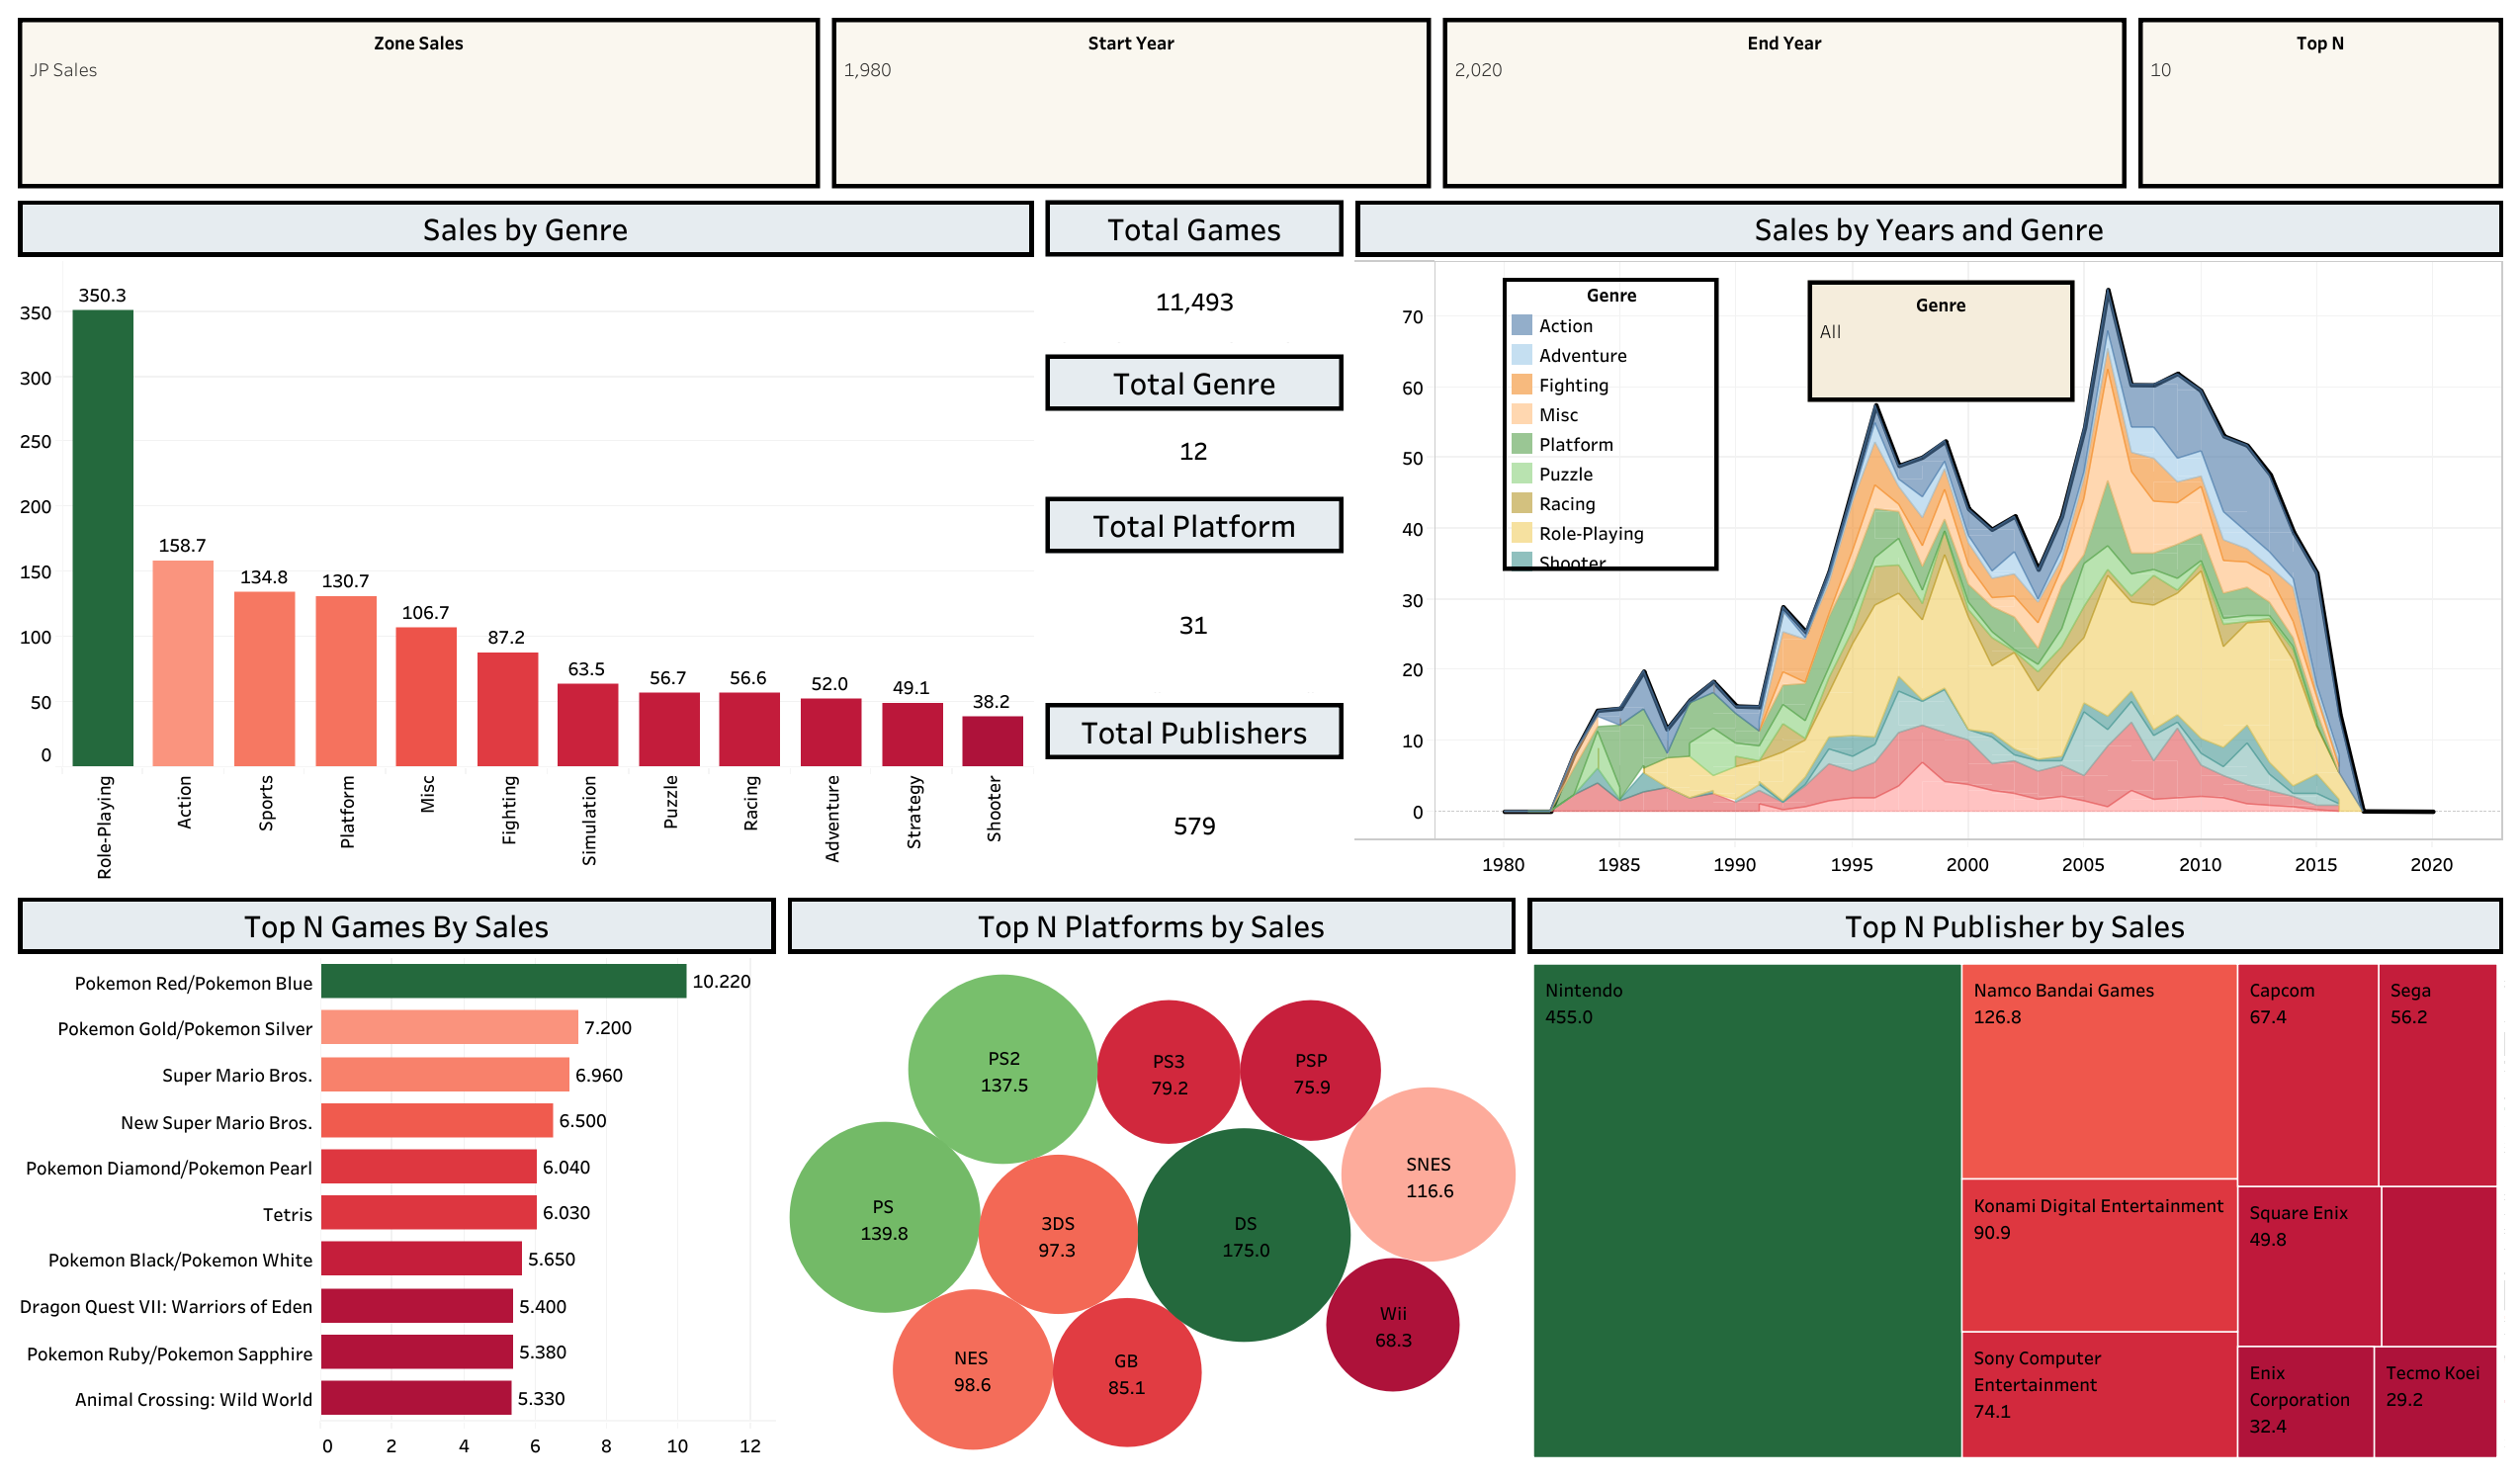

The page's visual inventory and layout, read from the dashboard file:
{"tool":"tableau","page":{"name":"Dashboard 1","canvas":[1700,1000],"ordinal":0},"visuals":[{"type":"parameter","param":"[Parameters].[Parameter 1]","box":[8,8,549.2,123.3]},{"type":"parameter","param":"[Parameters].[Parameter 2]","box":[557.2,8,411.7,123.3]},{"type":"parameter","param":"[Parameters].[Parameter 3]","box":[968.9,8,468.8,123.3]},{"type":"parameter","param":"[Parameters].[Parameter 4]","box":[1437.7,8,254.3,123.3]},{"type":"worksheet","title":"Sheet 1","mark":"Automatic","rows":["Calculation_932526643627913216"],"cols":["Genre"],"box":[8,131.3,693.3,469.6]},{"type":"worksheet","title":"Sheet 6","mark":"Automatic","box":[701.3,131.3,208.9,103.7]},{"type":"worksheet","title":"Sheet 2","mark":"Automatic","rows":["Calculation_932526643627913216","Calculation_932526643627913216"],"cols":["Year"],"box":[910.1,131.3,781.8,469.6]},{"type":"legend","title":"Sheet 2","param":"[federated.1shygkf08u36un1e5c7n30r0cn0r].[none:Genre:nk]","box":[1013,187,146,198]},{"type":"filter","title":"Sheet 2","param":"[federated.1shygkf08u36un1e5c7n30r0cn0r].[none:Genre:nk]","box":[1219,189,180,82]},{"type":"worksheet","title":"Sheet 6 (4)","mark":"Automatic","box":[701.3,235,208.9,96]},{"type":"worksheet","title":"Sheet 6 (2)","mark":"Automatic","box":[701.3,331,208.9,139]},{"type":"worksheet","title":"Sheet 6 (3)","mark":"Automatic","box":[701.3,470,208.9,130.9]},{"type":"worksheet","title":"Sheet 3","mark":"Automatic","rows":["Name"],"cols":["Calculation_932526643627913216"],"box":[8,600.9,519.4,391.1]},{"type":"worksheet","title":"Sheet 4","mark":"Circle","box":[527.4,600.9,498.6,391.1]},{"type":"worksheet","title":"Sheet 5","mark":"Automatic","box":[1026.1,600.9,665.9,391.1]}]}

Visuals, with their boxes in screenshot pixels (x1, y1, x2, y2), scaled from the page's 1700x1000 canvas onto the 2520x1482 screenshot:
parameter: <bbox>12, 12, 826, 195</bbox>
parameter: <bbox>826, 12, 1436, 195</bbox>
parameter: <bbox>1436, 12, 2131, 195</bbox>
parameter: <bbox>2131, 12, 2508, 195</bbox>
"Sheet 1" worksheet: <bbox>12, 195, 1040, 891</bbox>
"Sheet 6" worksheet: <bbox>1040, 195, 1349, 348</bbox>
"Sheet 2" worksheet: <bbox>1349, 195, 2508, 891</bbox>
"Sheet 2" legend: <bbox>1502, 277, 1718, 570</bbox>
"Sheet 2" filter: <bbox>1807, 280, 2074, 401</bbox>
"Sheet 6 (4)" worksheet: <bbox>1040, 348, 1349, 490</bbox>
"Sheet 6 (2)" worksheet: <bbox>1040, 490, 1349, 697</bbox>
"Sheet 6 (3)" worksheet: <bbox>1040, 697, 1349, 891</bbox>
"Sheet 3" worksheet: <bbox>12, 891, 782, 1470</bbox>
"Sheet 4" worksheet (Circle marks): <bbox>782, 891, 1521, 1470</bbox>
"Sheet 5" worksheet: <bbox>1521, 891, 2508, 1470</bbox>
